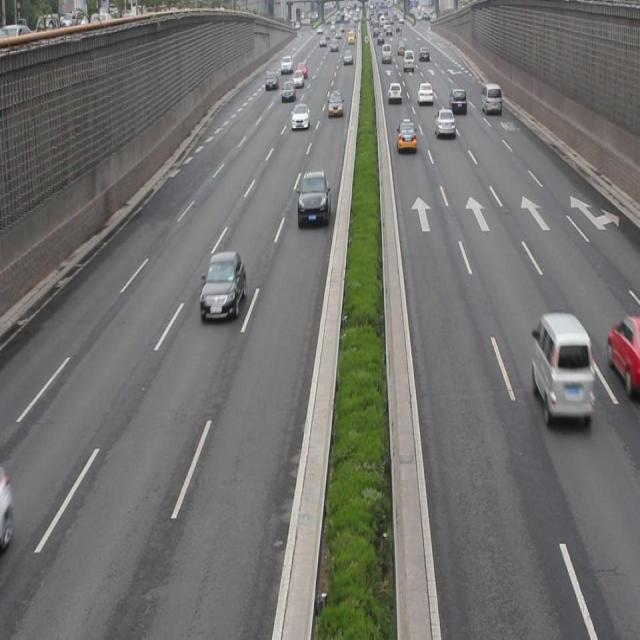car: (199, 249, 247, 322), (606, 317, 640, 390), (296, 168, 330, 228), (396, 119, 417, 151), (434, 107, 455, 138), (290, 101, 308, 131)
truck: (532, 310, 595, 422)
